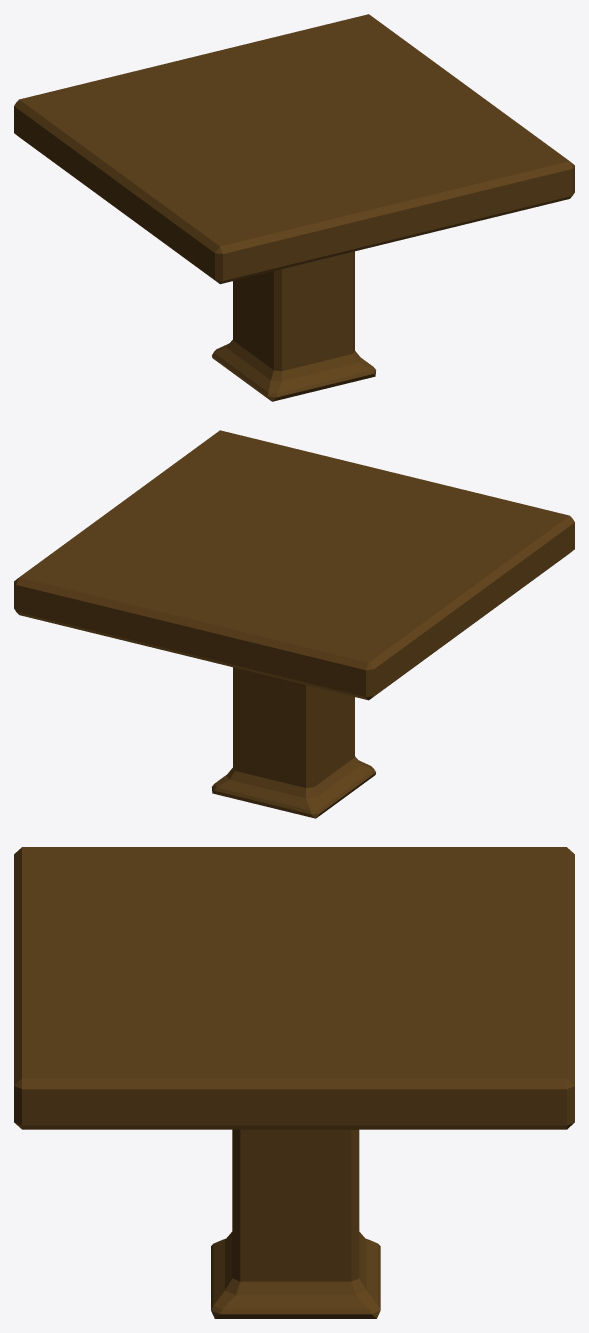
Rendered from mesa 2.fbx.
3 views of the same model, one above another, from view 1: azimuth 30°, elevation 25°; view 2: azimuth 150°, elevation 25°; view 3: azimuth 270°, elevation 25° (orthographic). The views are drawn at different scales.
Visible parts, largest first — view 1: Mesa.002; view 2: Mesa.002; view 3: Mesa.002.
Boxes of the visible parts, left/top/right/bottom form: Mesa.002: left=14, top=14, right=574, bottom=401; Mesa.002: left=14, top=430, right=574, bottom=818; Mesa.002: left=14, top=847, right=574, bottom=1318.
Bounding box in the file's own units: 110 × 69.26 × 109.
